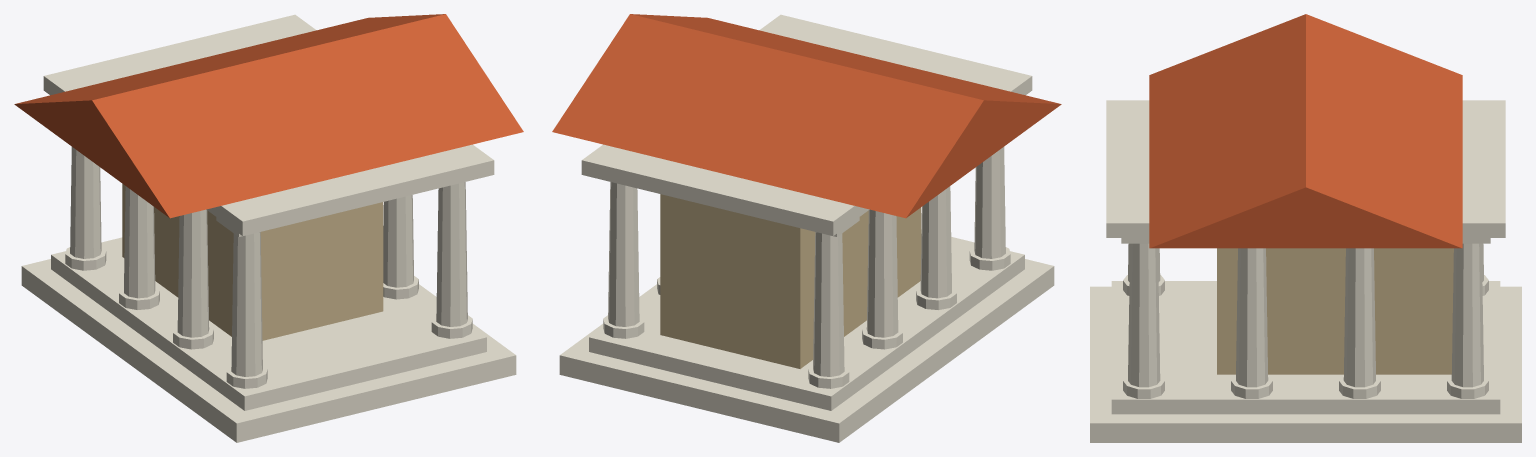
File: temple_small.glb
The picture shows the model from 3 angles, left to right: view 1: azimuth 30°, elevation 25°; view 2: azimuth 150°, elevation 25°; view 3: azimuth 270°, elevation 25°; orthographic projection.
Visible parts, largest first — view 1: temple_small; view 2: temple_small; view 3: temple_small.
Boxes of the visible parts, x1,y1,x2,y2 form: temple_small: (14, 14, 523, 442); temple_small: (552, 14, 1061, 442); temple_small: (1090, 14, 1521, 442).
Bounding box in the file's own units: 7.6 × 5.6 × 8.
